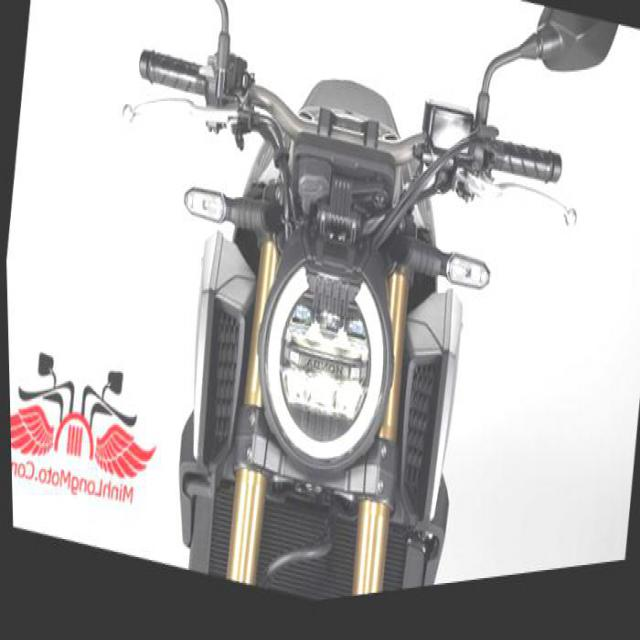CB650R: (37, 0, 630, 635)
